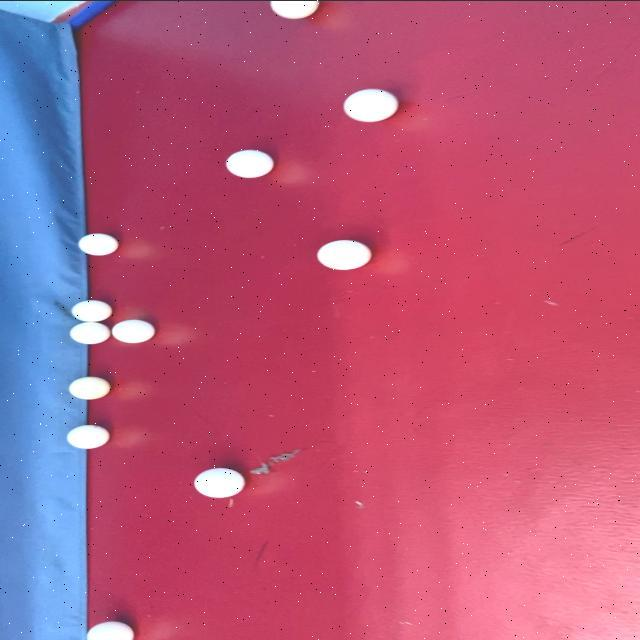ping-pong-ball: (302, 232, 380, 278), (335, 83, 409, 125), (56, 370, 124, 404), (216, 145, 284, 179), (190, 465, 250, 499), (250, 0, 334, 22), (57, 421, 115, 452), (71, 228, 123, 258), (80, 614, 136, 640), (110, 316, 162, 344), (63, 297, 119, 322)
